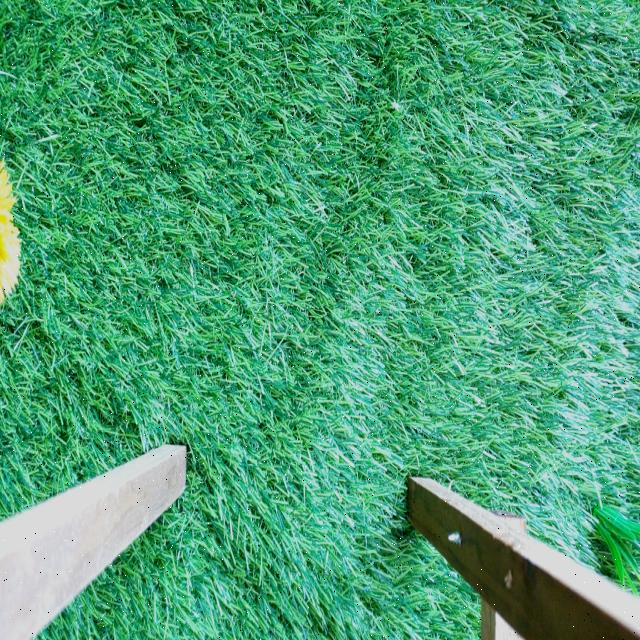dandelion: (0, 0, 640, 240)
